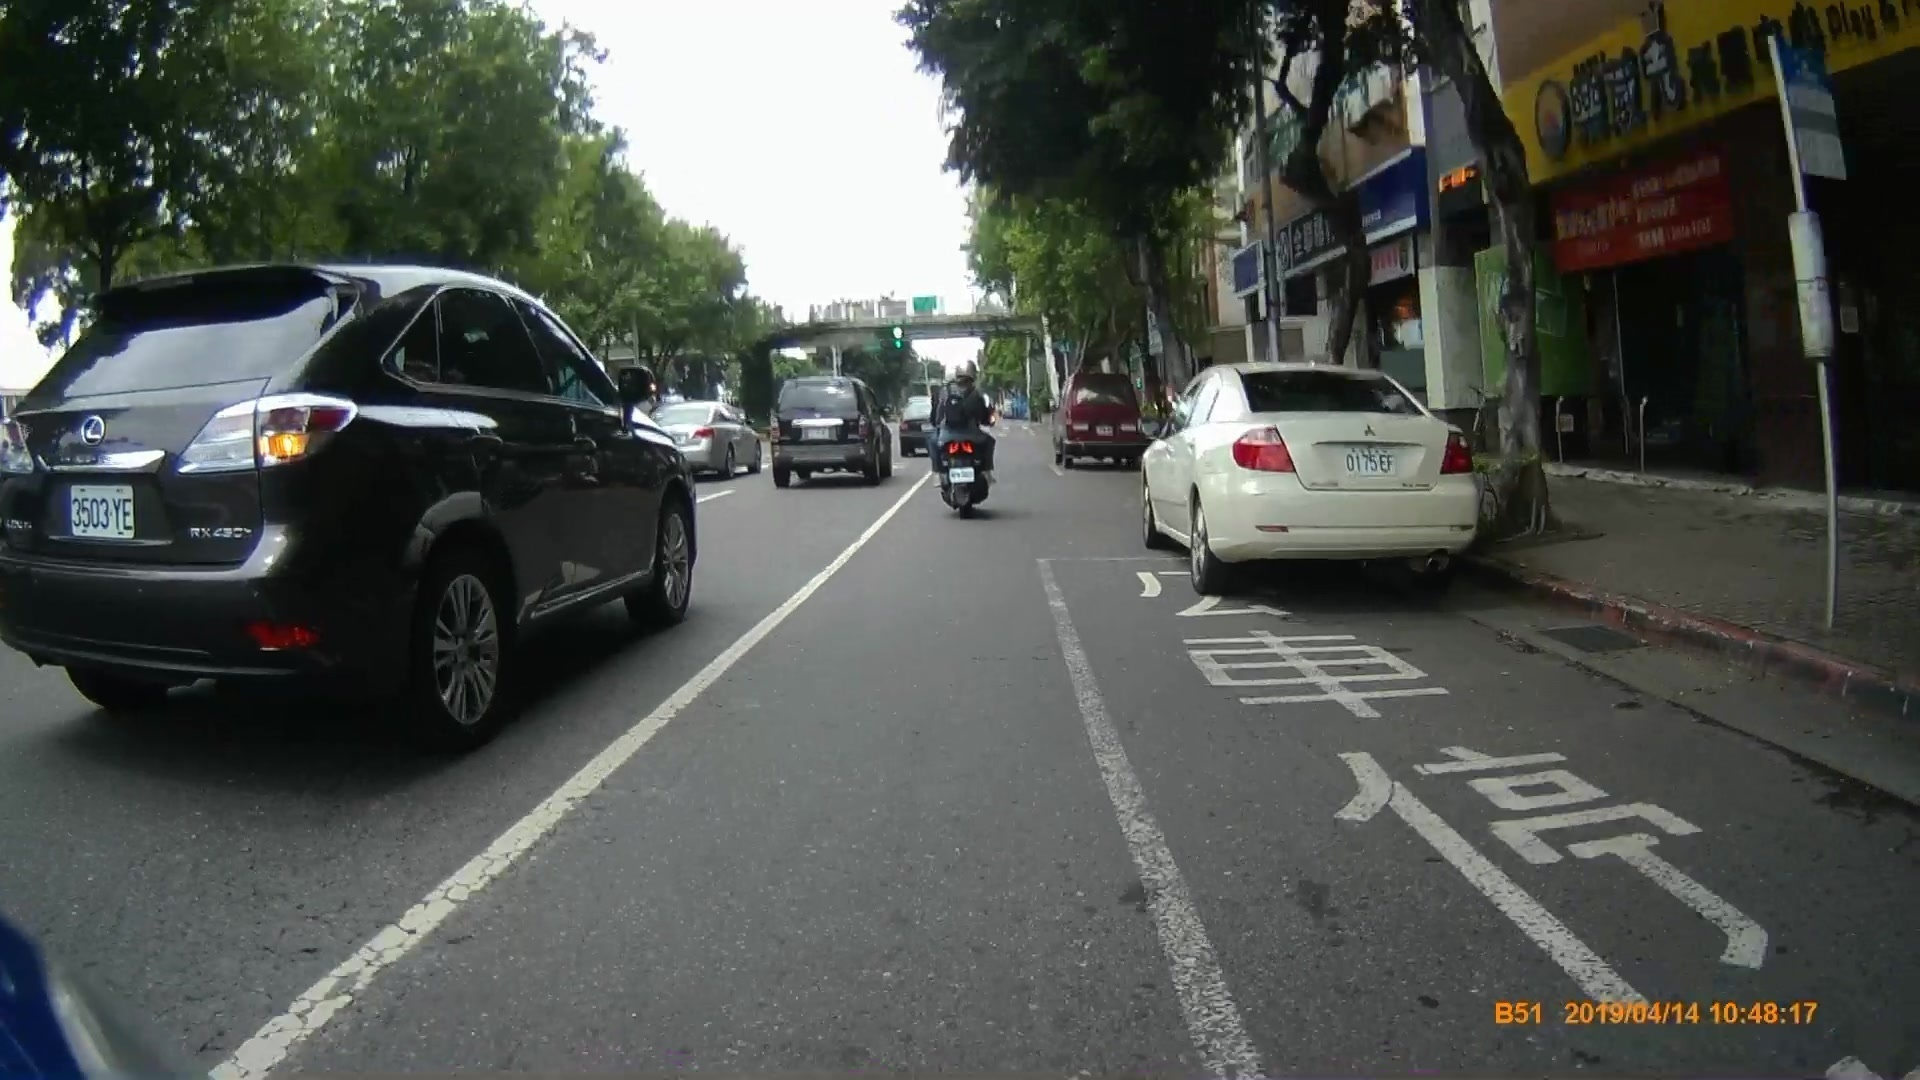License_plate: (67, 483, 141, 540), (1339, 444, 1406, 479), (947, 467, 977, 485)
